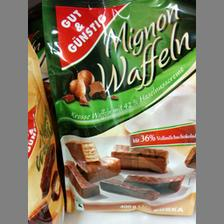Schokolade: (41, 0, 195, 216), (26, 34, 66, 222)
